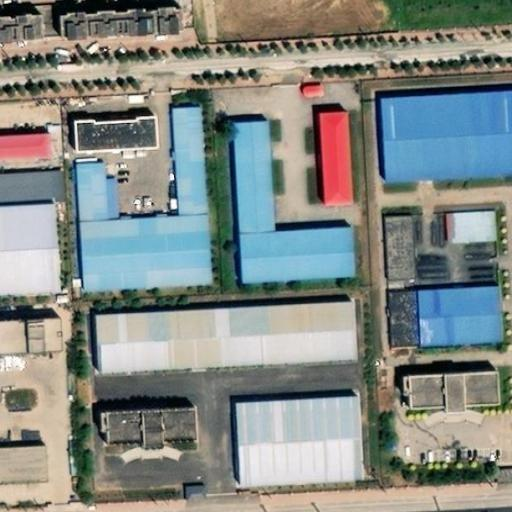building: (234, 138, 356, 306), (95, 307, 357, 381), (236, 412, 363, 506), (386, 111, 512, 201), (80, 232, 212, 310), (0, 227, 61, 321), (418, 302, 501, 366), (63, 19, 187, 57), (172, 124, 209, 233), (408, 385, 499, 427), (107, 438, 192, 480), (319, 130, 355, 226), (77, 142, 157, 179), (78, 177, 122, 237), (383, 228, 419, 298), (0, 343, 60, 383), (0, 463, 45, 499), (452, 224, 496, 260), (389, 305, 420, 355), (0, 28, 48, 60), (0, 155, 52, 184), (180, 479, 205, 498), (298, 77, 322, 96)
